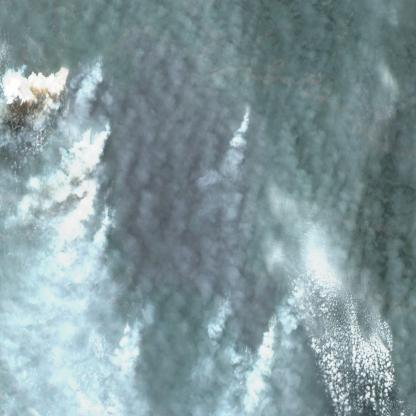fire: (217, 269, 308, 359), (56, 52, 114, 141), (118, 299, 150, 347), (69, 165, 100, 212), (236, 88, 255, 122)
